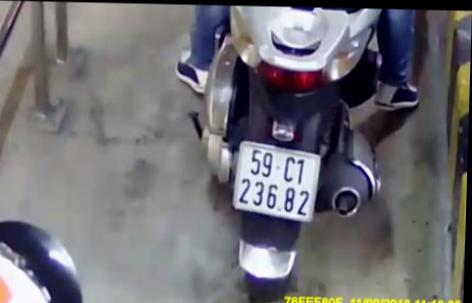LP: (230, 137, 323, 223)
